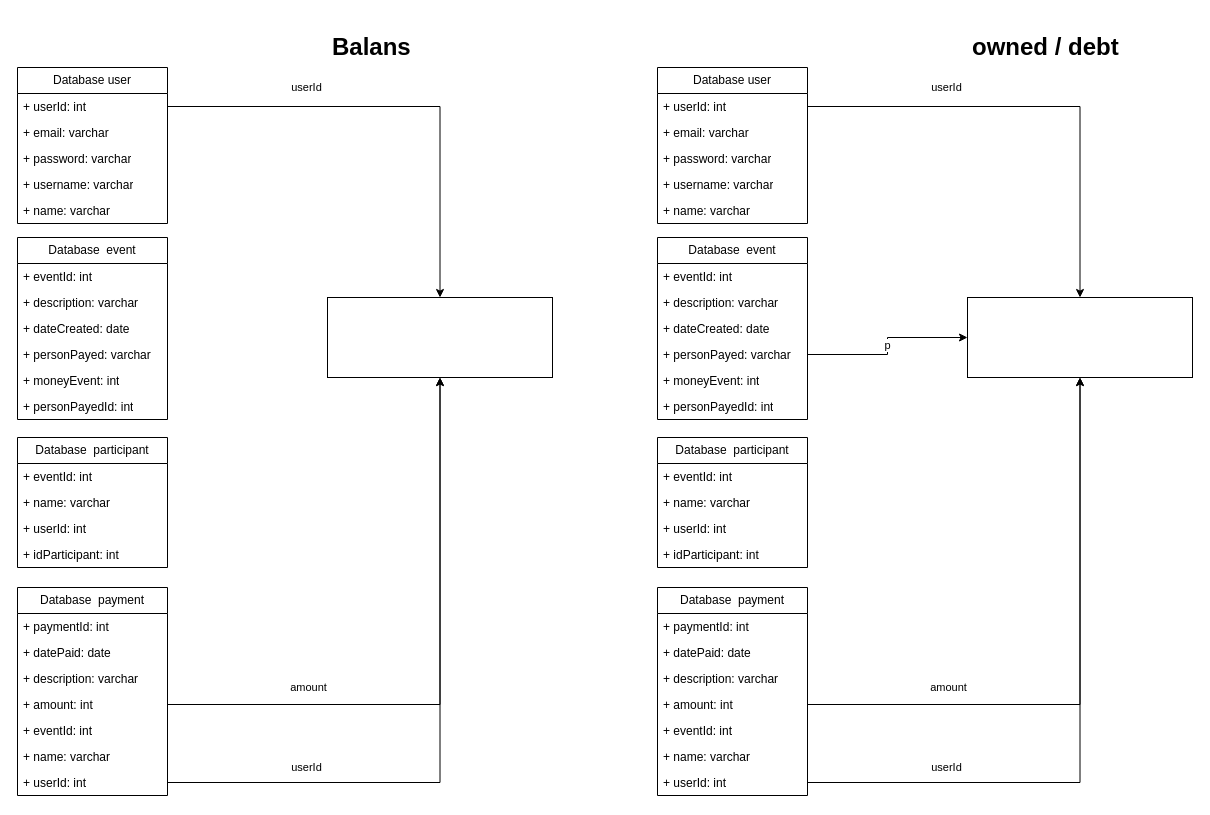
Some shapes in this 1210 by 815 pixel diagram are drawn without their labels. The box of each missing label's shape, as (x1, y1, x2, y2) in pixels:
Balans totalSum = SELECT sum(amount) FROM payment WHERE userId === userId: (326, 296, 552, 378)
owned: debt:: (966, 296, 1192, 378)
